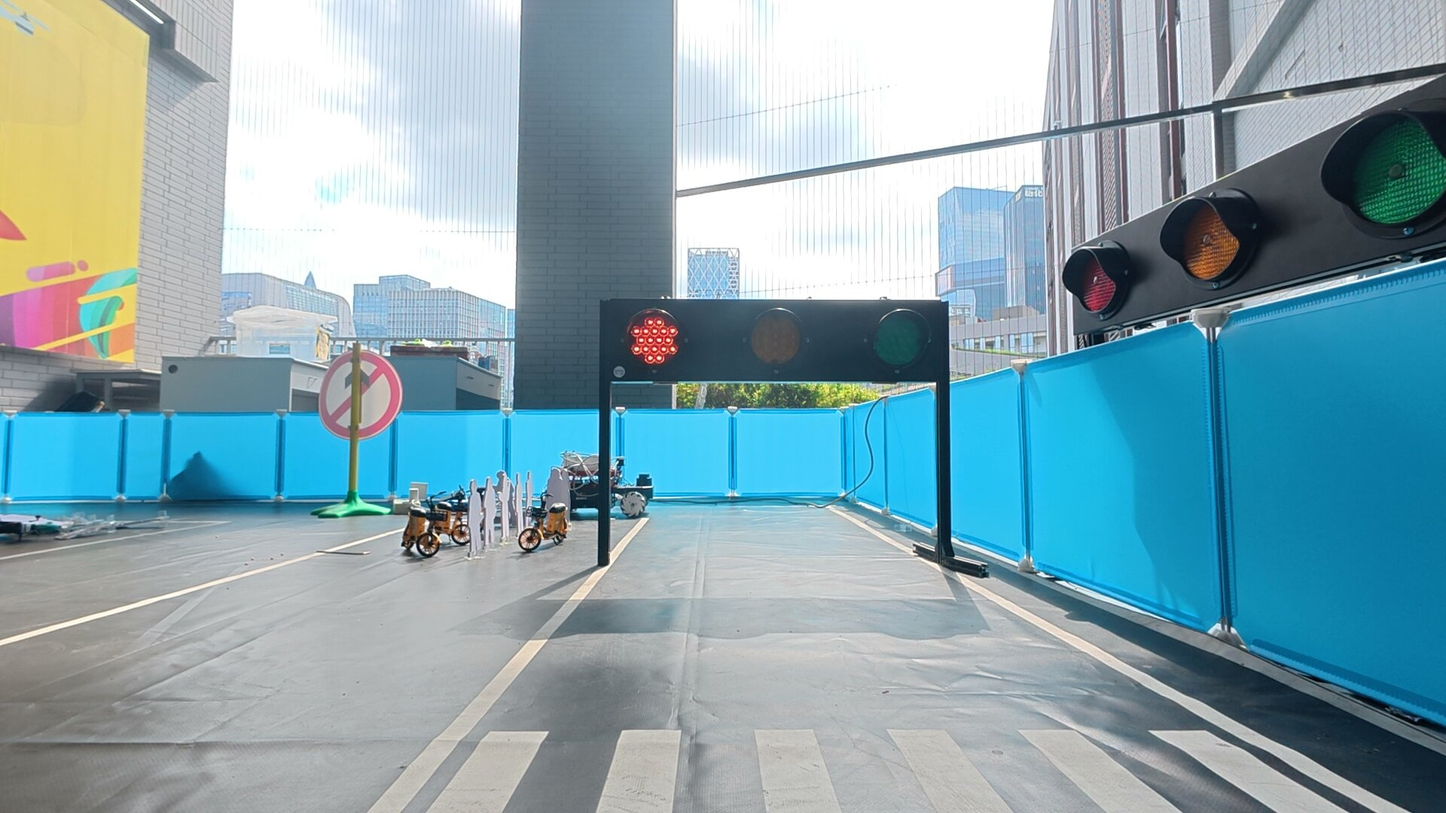stop: (626, 309, 684, 371)
